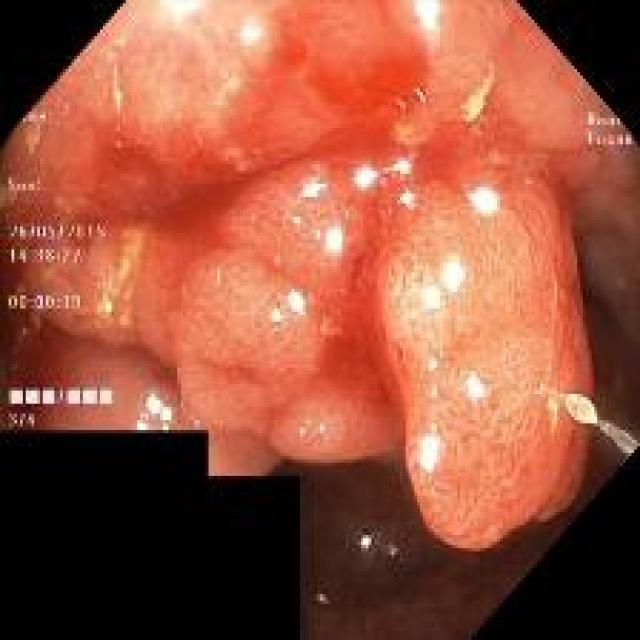Polyps: (379, 184, 594, 549), (169, 155, 400, 462), (8, 230, 170, 365)
